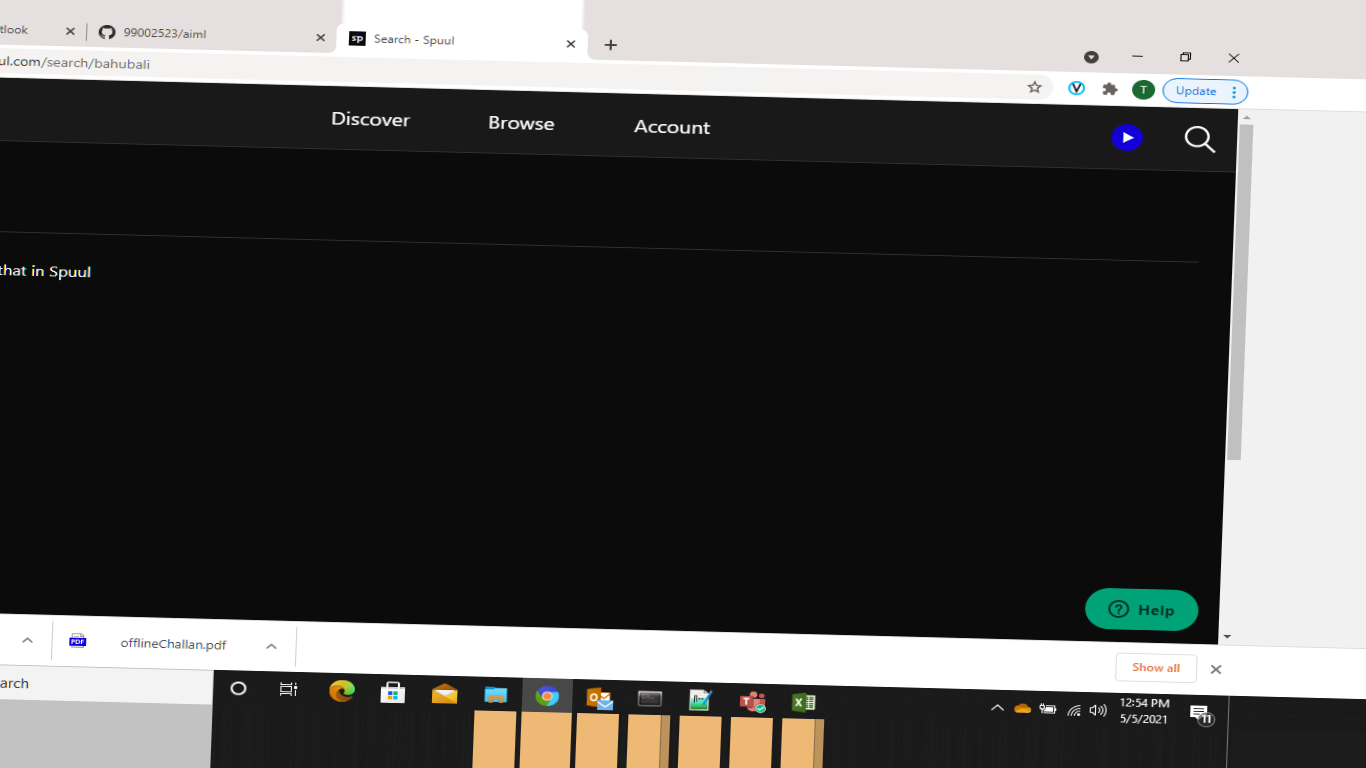myaccountbutton: (611, 92, 761, 160)
noresultsfound: (1, 249, 129, 303)
searchicon: (1178, 119, 1223, 155)
